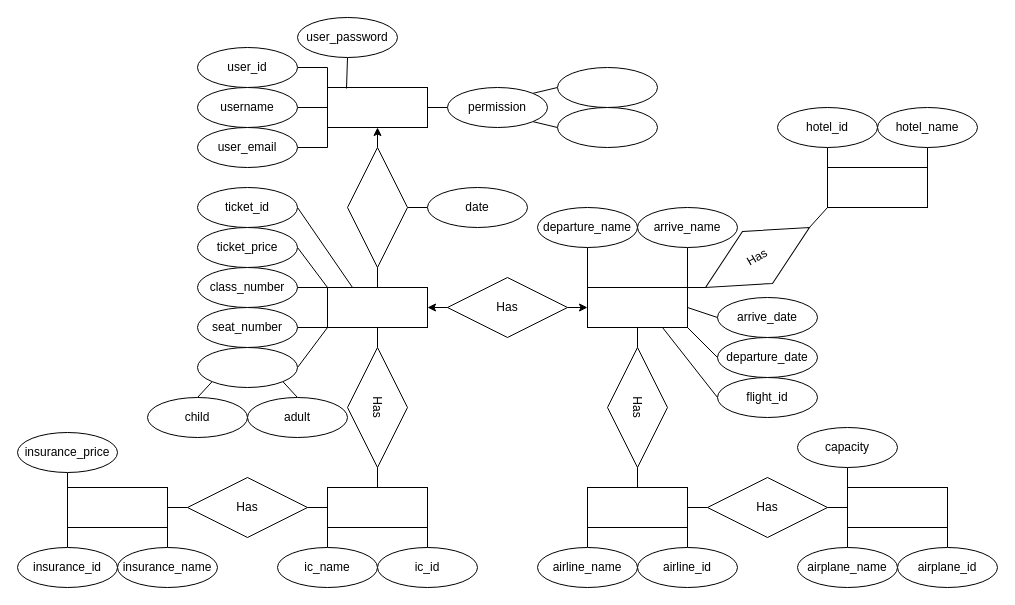
Some shapes in this 1015 by 605 pixel diagram are drawn without their labels. The shapes that lost their labels are listed below. From the top down, each one's centre as x and y in pixels, then its label:
(x=377, y=107): User
(x=607, y=87): permission_name
(x=607, y=127): permission_id
(x=377, y=207): Booking
(x=877, y=187): Hotel
(x=377, y=307): Ticket
(x=637, y=307): Flight
(x=247, y=367): age
(x=117, y=507): Insurance
(x=377, y=507): Insurance company
(x=637, y=507): Airline
(x=897, y=507): Airplane
